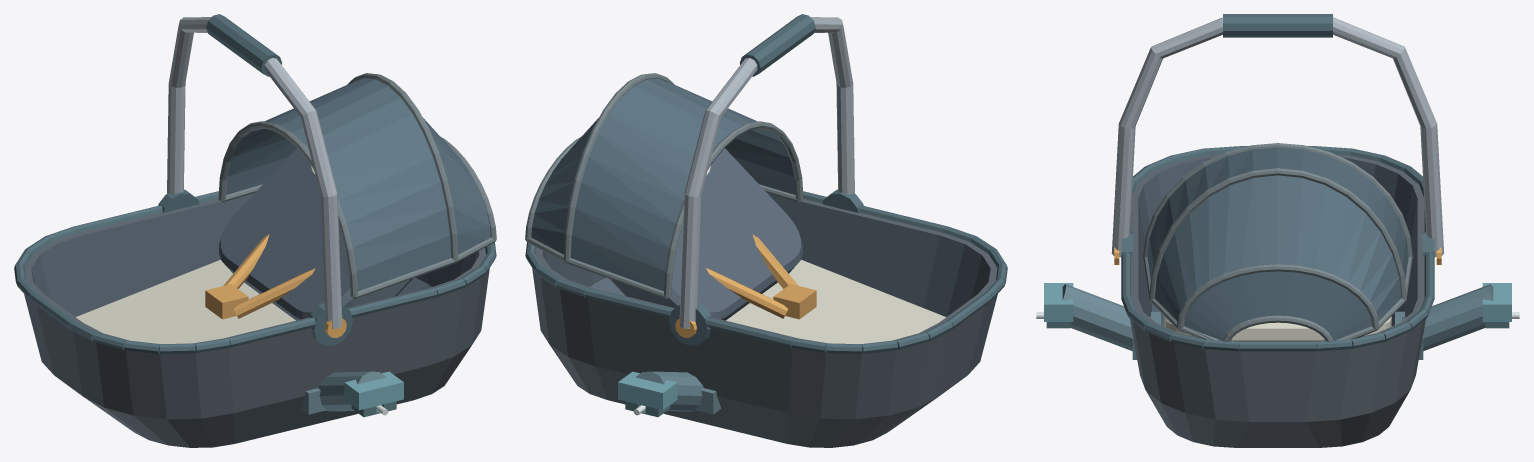
3 views of the same model, side by side, from view 1: azimuth 30°, elevation 25°; view 2: azimuth 150°, elevation 25°; view 3: azimuth 270°, elevation 25° (orthographic).
Visible parts, largest first — view 1: S07_Cabin, S07_Cabin_Mount_M; view 2: S07_Cabin, S07_Cabin_Mount_M; view 3: S07_Cabin, S07_Cabin_Mount_M.
Boxes of the visible parts, x1=… form: S07_Cabin: x1=14, y1=14, x2=496, y2=447; S07_Cabin_Mount_M: x1=300, y1=371, x2=403, y2=417; S07_Cabin: x1=525, y1=14, x2=1007, y2=447; S07_Cabin_Mount_M: x1=618, y1=371, x2=721, y2=417; S07_Cabin: x1=1111, y1=14, x2=1444, y2=447; S07_Cabin_Mount_M: x1=1036, y1=283, x2=1519, y2=359.
Bounding box in the file's own units: 0.552 × 0.4473 × 0.564.
